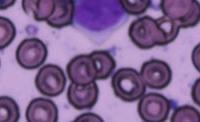L: (71, 0, 129, 41)
